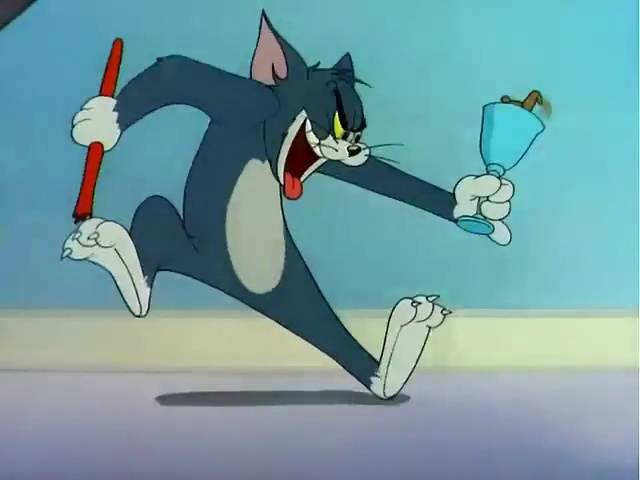tom: (79, 7, 469, 384)
